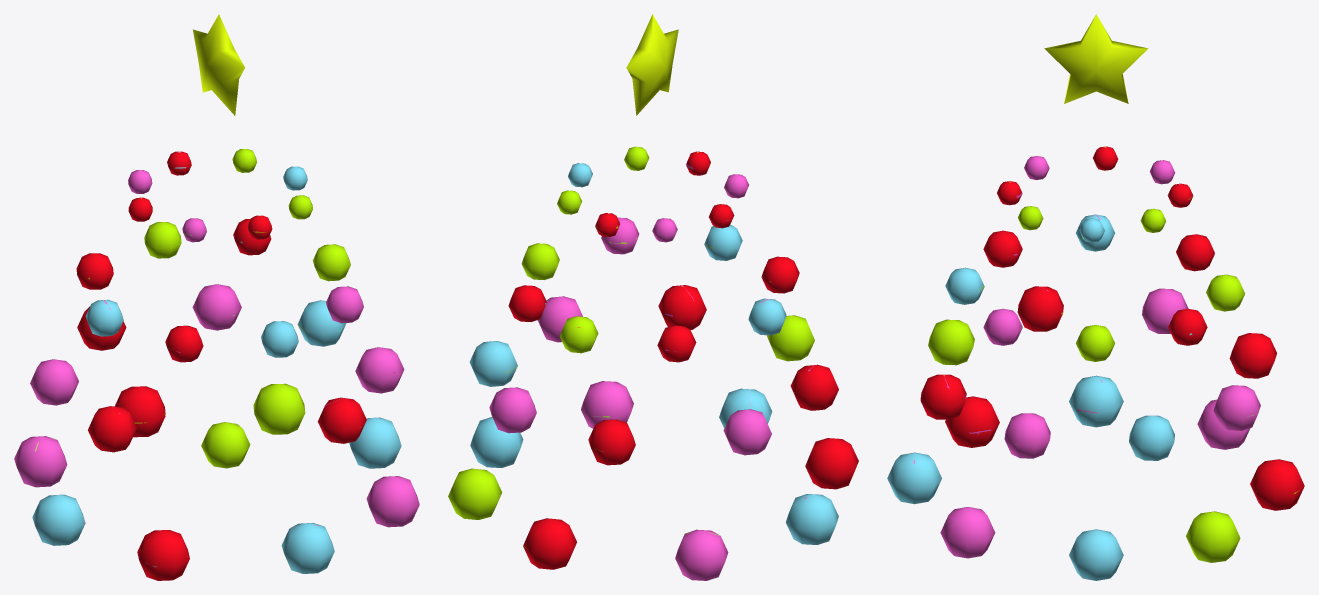
The model's file is ctreedecor.fbx.
3 renders of one model, left to right at view 1: azimuth 30°, elevation 25°; view 2: azimuth 150°, elevation 25°; view 3: azimuth 270°, elevation 25°, orthographic.
Visible parts, largest first — view 1: CTReeDecorations; view 2: CTReeDecorations; view 3: CTReeDecorations.
Boxes of the visible parts, bbox=[...] form: CTReeDecorations: bbox=[14, 14, 419, 580]; CTReeDecorations: bbox=[448, 14, 858, 580]; CTReeDecorations: bbox=[887, 14, 1304, 580].
Size of the model in its own units: 1.52 by 1.97 by 1.52.
1 material, 1 textured.
